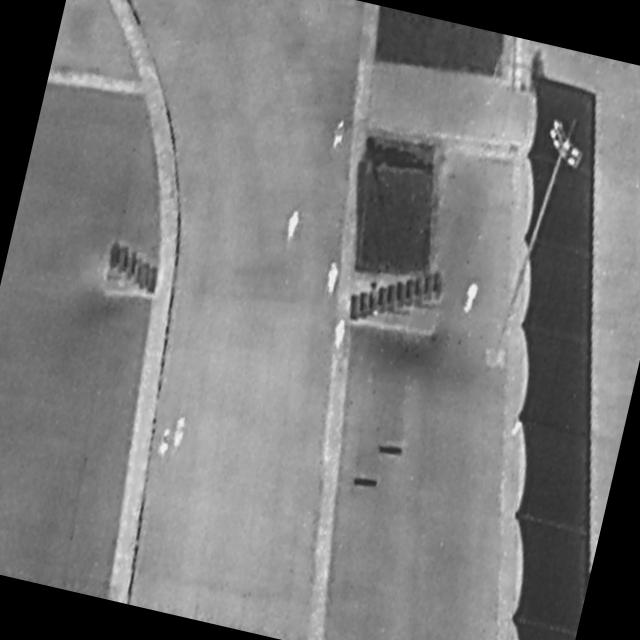person: (321, 259, 344, 299), (329, 315, 351, 355), (169, 415, 189, 454), (462, 279, 483, 316), (329, 120, 349, 152), (285, 208, 302, 243), (158, 429, 172, 455)
